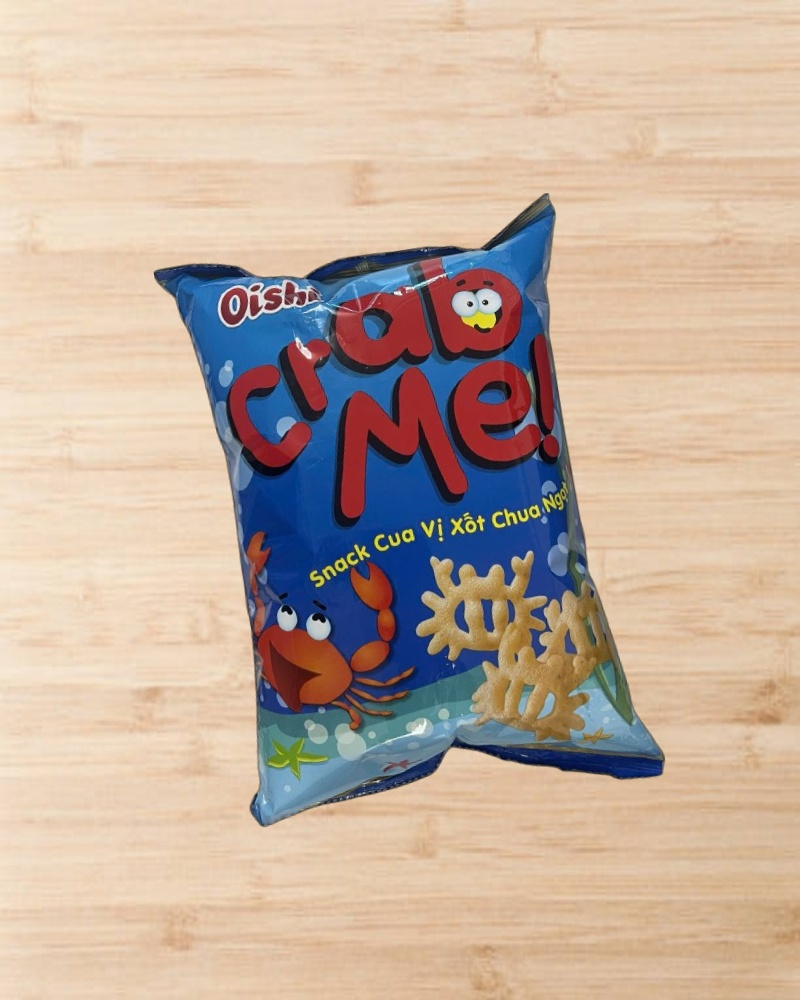Snack cua: (153, 191, 667, 841)
